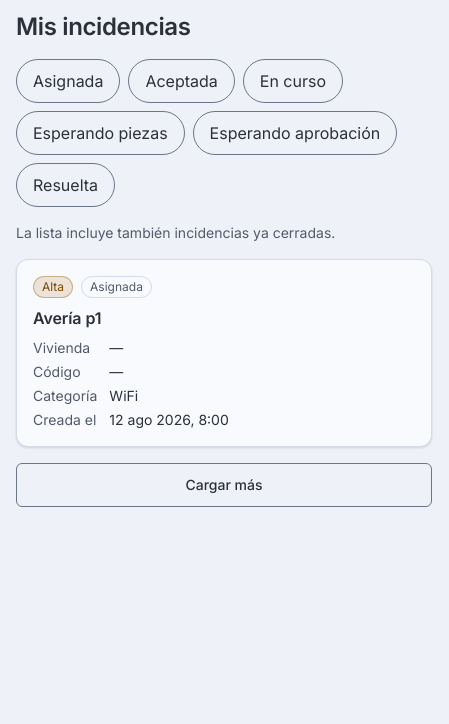
Scenario: TechIncidentsView (R1) › disables `load more` while a page is in flight, so a double tap cannot skip one
Expected: the text "Avería p1" is shown, [33,308,102,328]
Click the button "Cargar más" at (224, 485), box [16,463,432,507]
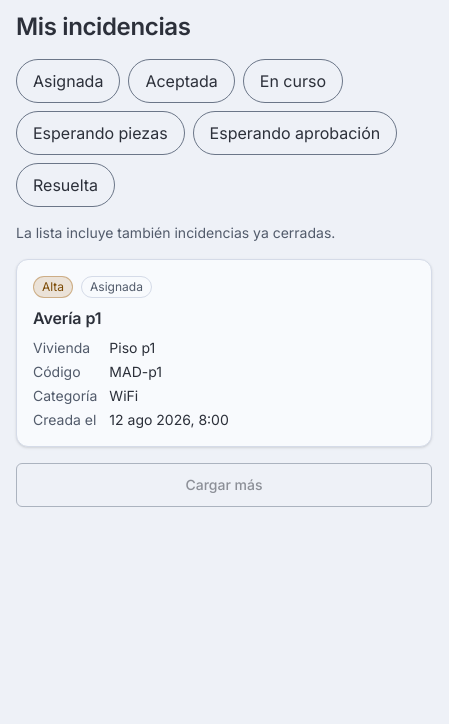
Result: the button "Cargar más" is disabled
Click the button "Cargar más" at (224, 485), box [16,463,432,507]
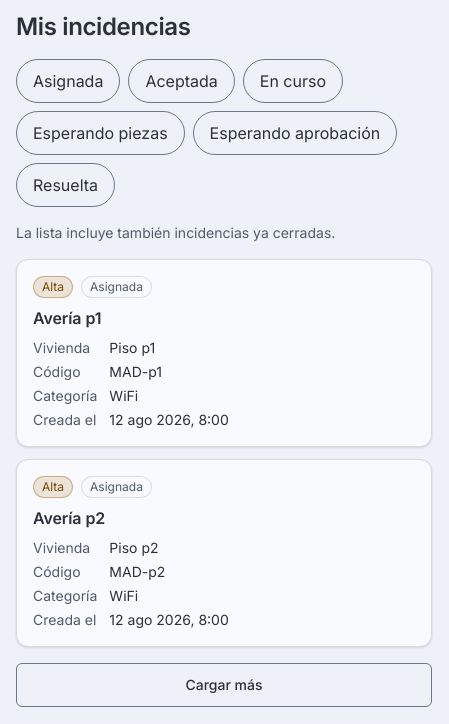
Result: the text "Avería p2" is shown at [33,508,105,528]
